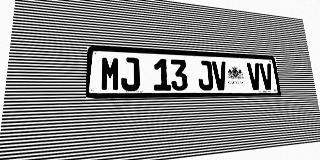1: (153, 58, 171, 91)
3: (170, 59, 188, 91)
J: (121, 57, 140, 91), (197, 60, 214, 90)
M: (100, 56, 120, 91)
V: (212, 61, 228, 90), (247, 63, 262, 90), (259, 63, 274, 90)
